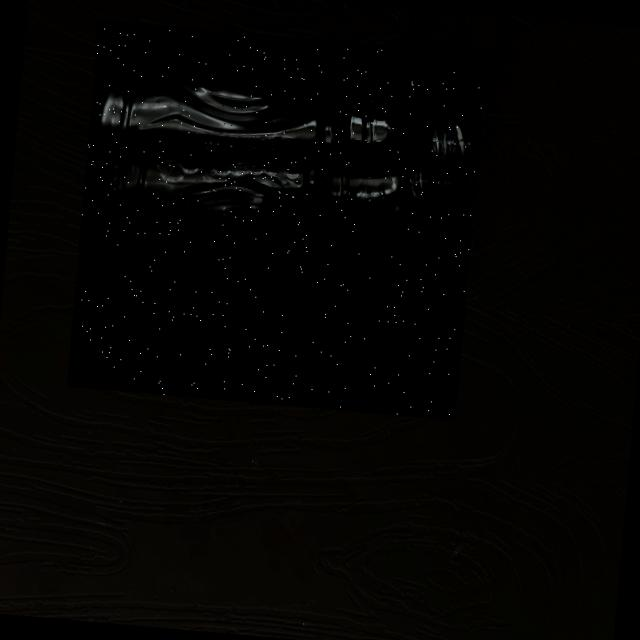PET_ClearBottle: (65, 19, 486, 420)
